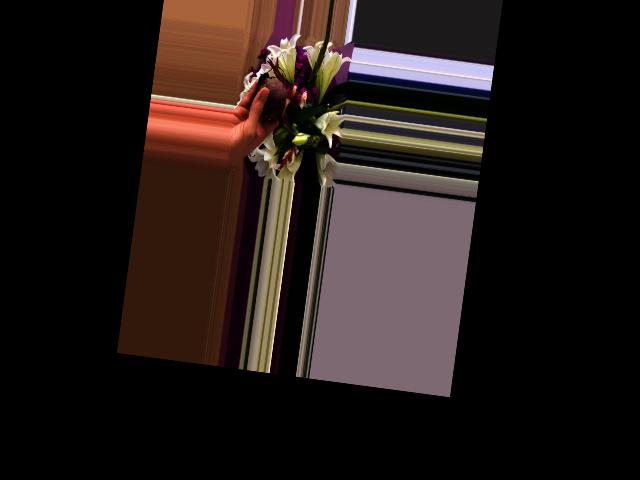beet: (250, 64, 312, 136)
